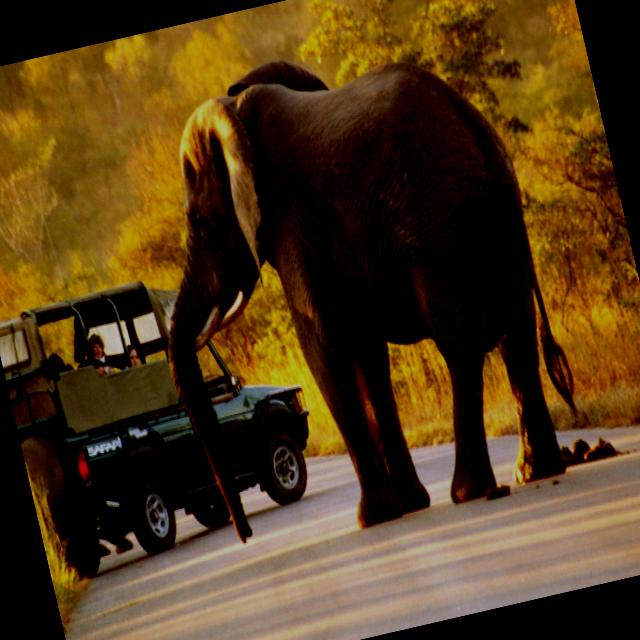Vehicle: (0, 248, 332, 587), (0, 250, 333, 583)
